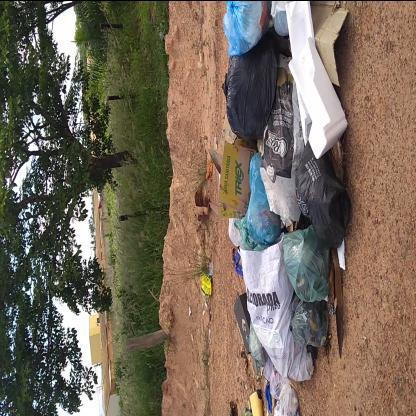lixo: (216, 0, 346, 380)
